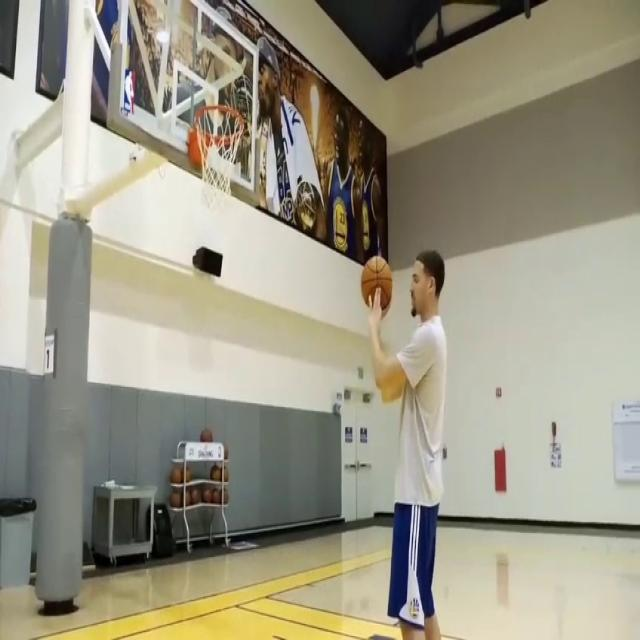ball: (360, 256, 393, 312), (200, 426, 214, 444)
